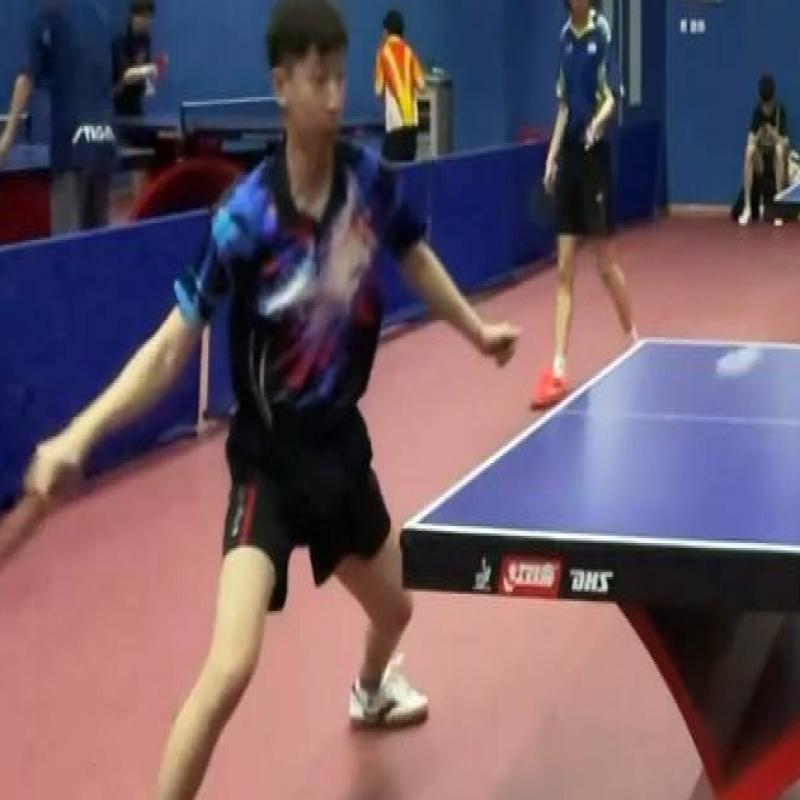bats: (0, 456, 56, 572)
